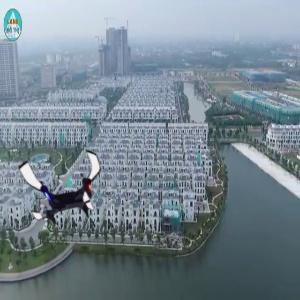drone: (22, 142, 111, 231)
